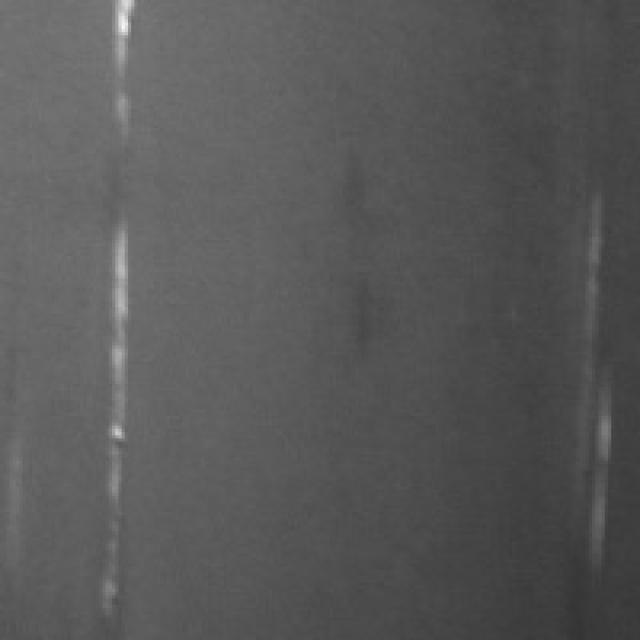inclusion: (333, 266, 381, 368)
scratches: (564, 192, 614, 573), (83, 214, 131, 596), (96, 0, 138, 131)
